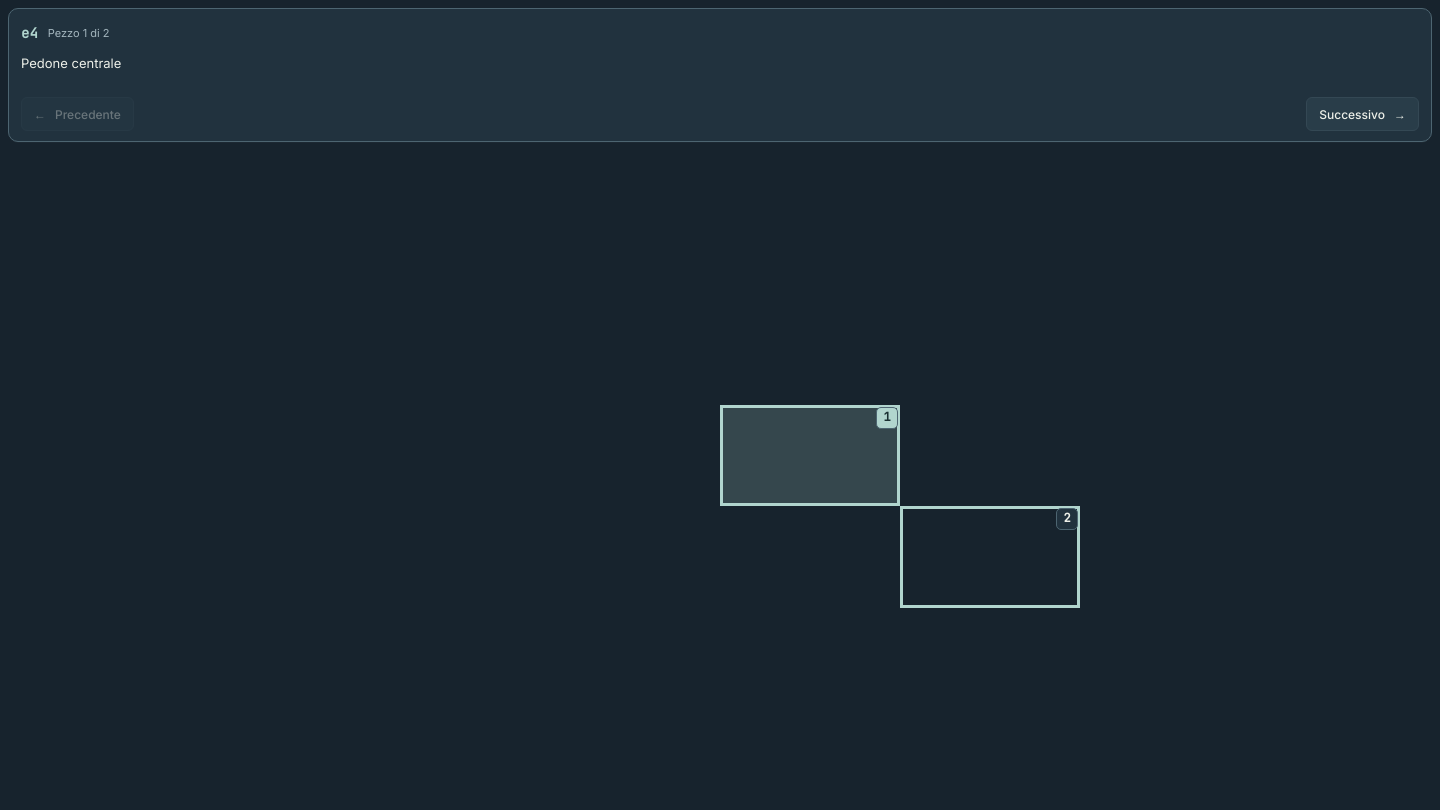
Test: board explanations › keeps one label visible and lets users select an involved piece
The image size is (1440, 810).
Check: the text "Pedone centrale" is shown, box [21,55,121,71]
Check: the text "Cavallo sviluppato" is not shown
What coordinates should you click on to do the following:
click the button named "2. f3: Cavallo sviluppato"
I would click on:
 (1067, 519)
Its box is [1056,508,1078,530].
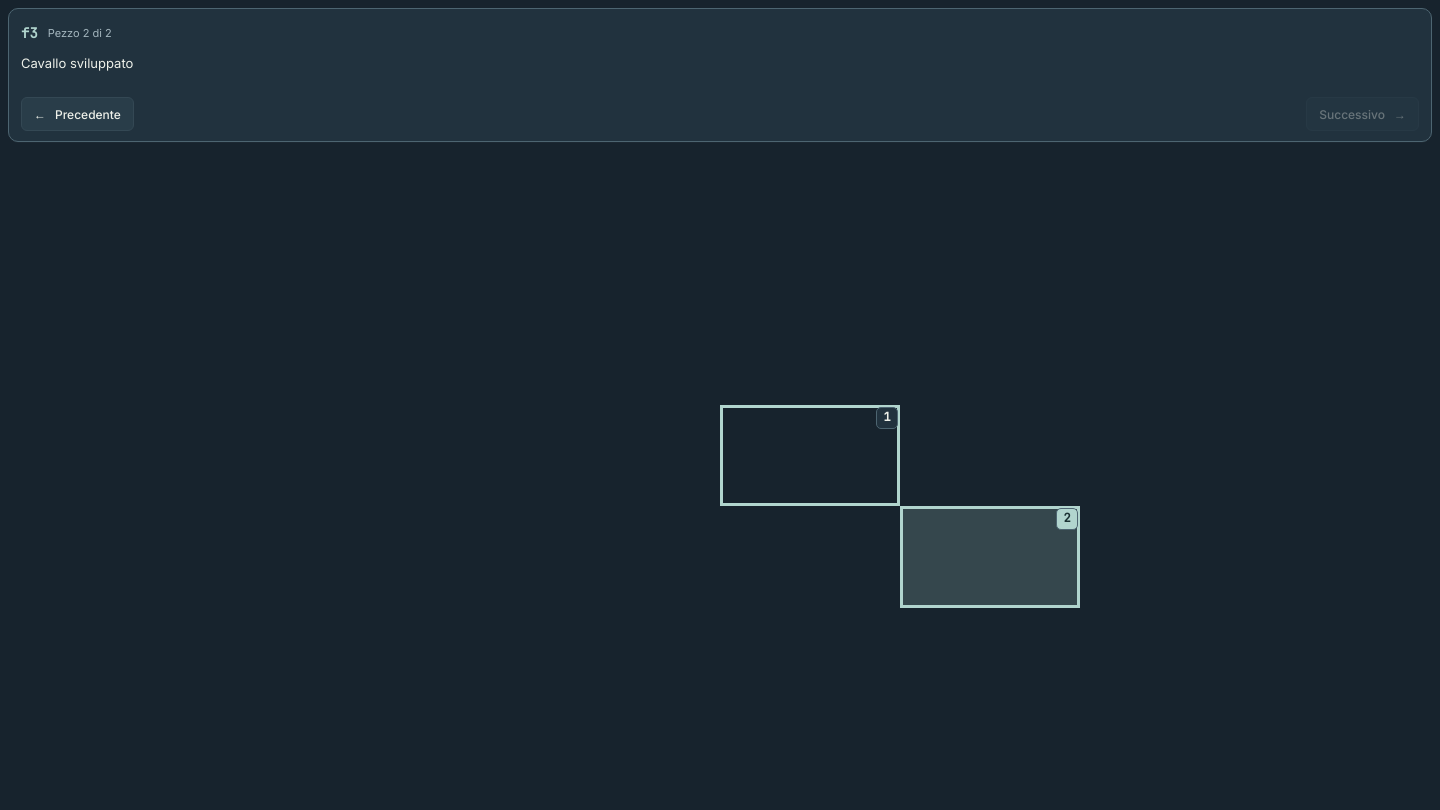
Check: the text "Cavallo sviluppato" is shown, box [21,55,133,71]
Check: the text "Pedone centrale" is gone
